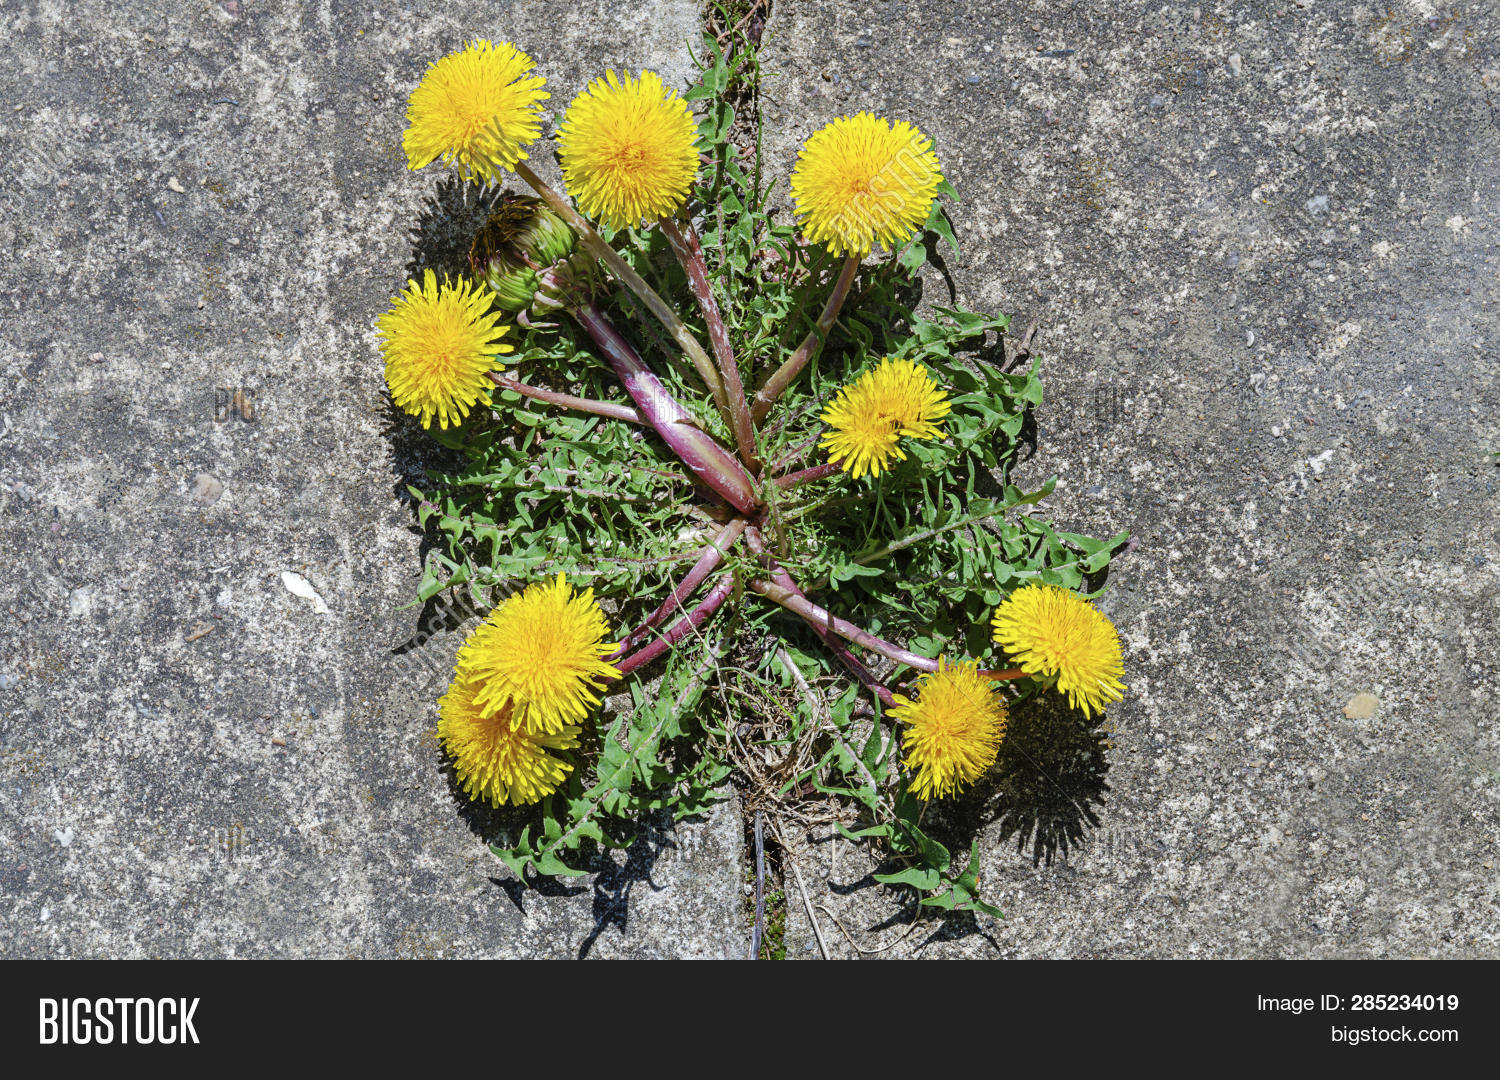dandelion: (788, 123, 937, 253), (397, 31, 535, 170), (369, 281, 502, 419), (996, 588, 1142, 703), (582, 76, 689, 219), (447, 697, 580, 812), (896, 675, 1012, 802), (832, 350, 942, 477), (495, 600, 593, 708)
